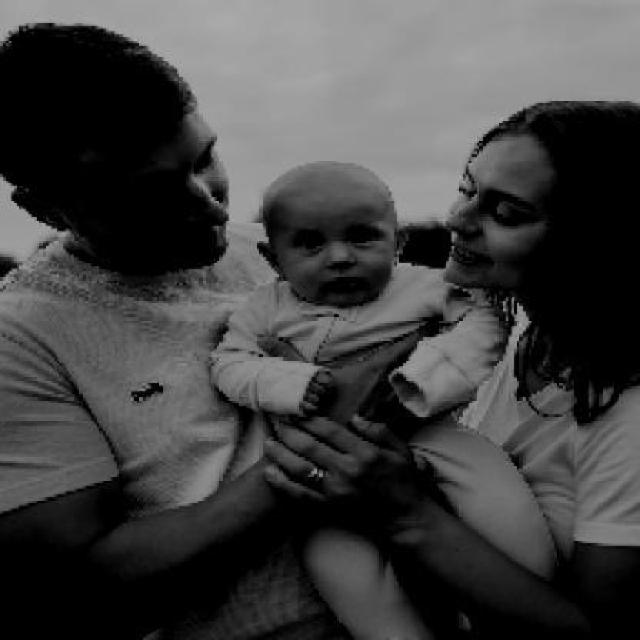child: (205, 157, 566, 637)
